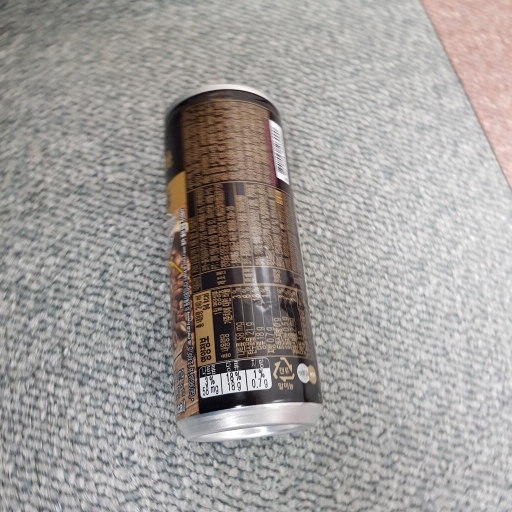Metal_0: (158, 84, 325, 442)
